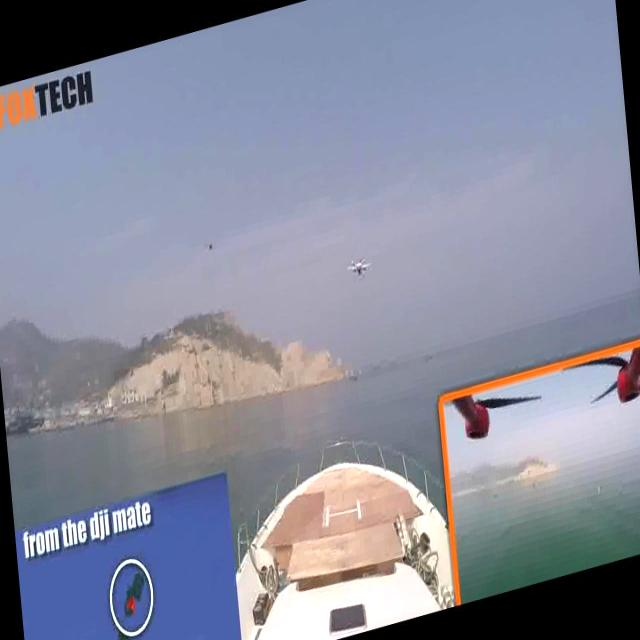drone: (345, 248, 376, 288)
